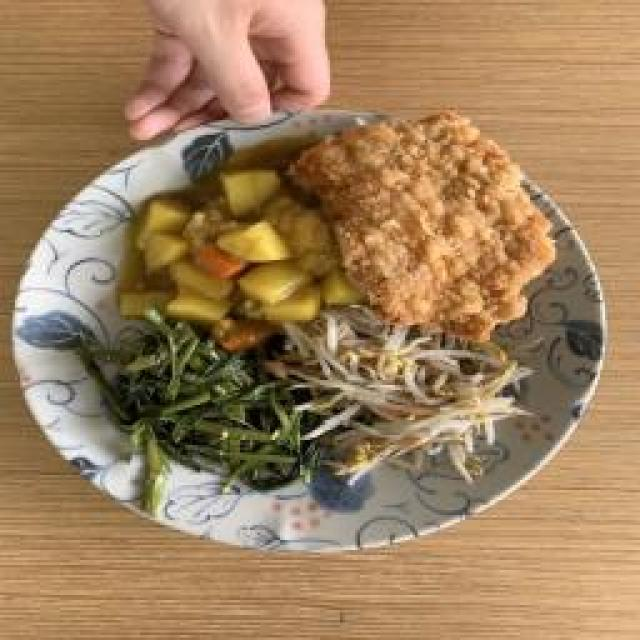Wet Waste: (312, 132, 540, 322), (120, 182, 315, 322), (110, 335, 305, 473), (317, 330, 515, 458)
